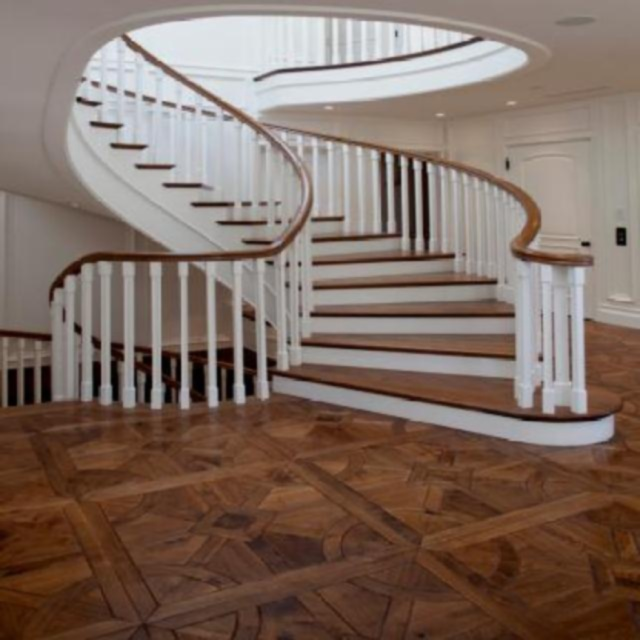stair: (14, 47, 614, 442)
